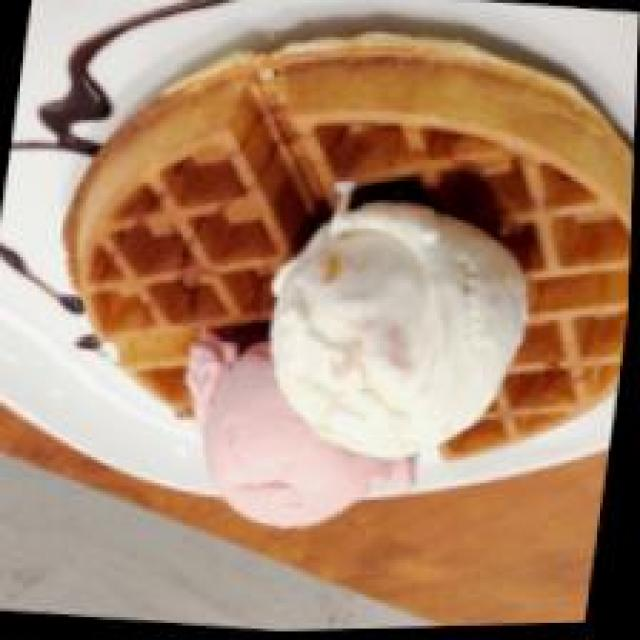Waffles: (31, 0, 640, 503)
